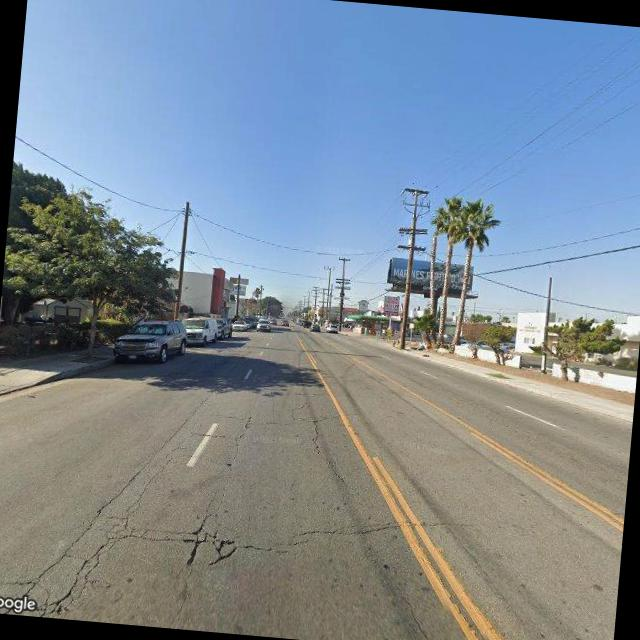crack: (110, 484, 483, 579), (43, 427, 187, 620), (4, 452, 138, 620), (277, 376, 363, 496)
